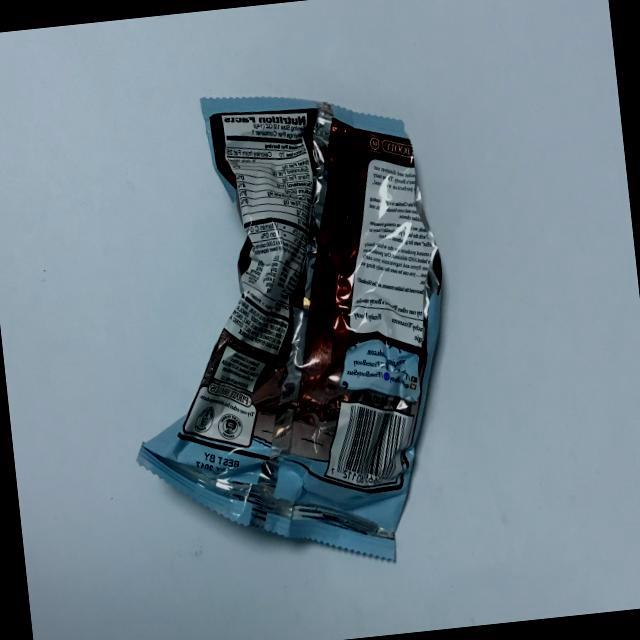plastic: (70, 47, 508, 612)
